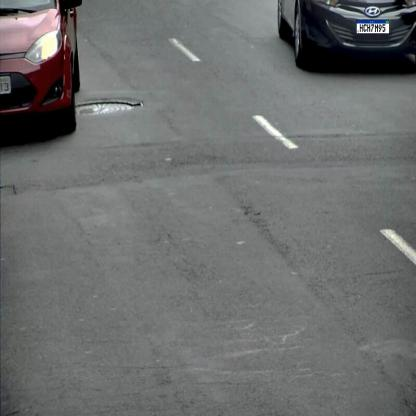PlacaM: (356, 19, 390, 34)
